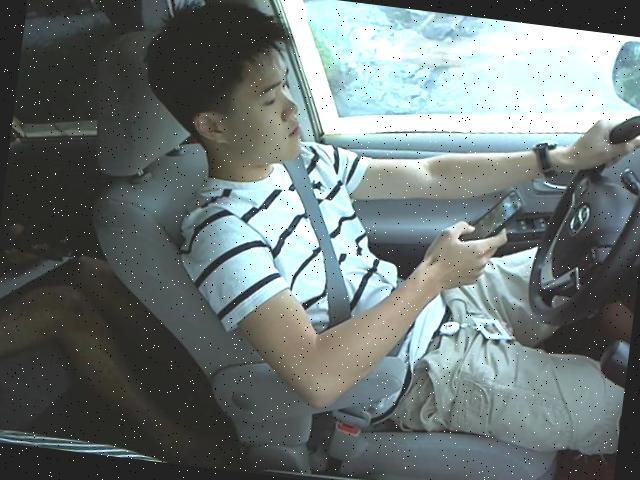c1 - Texting: (102, 0, 639, 437)
